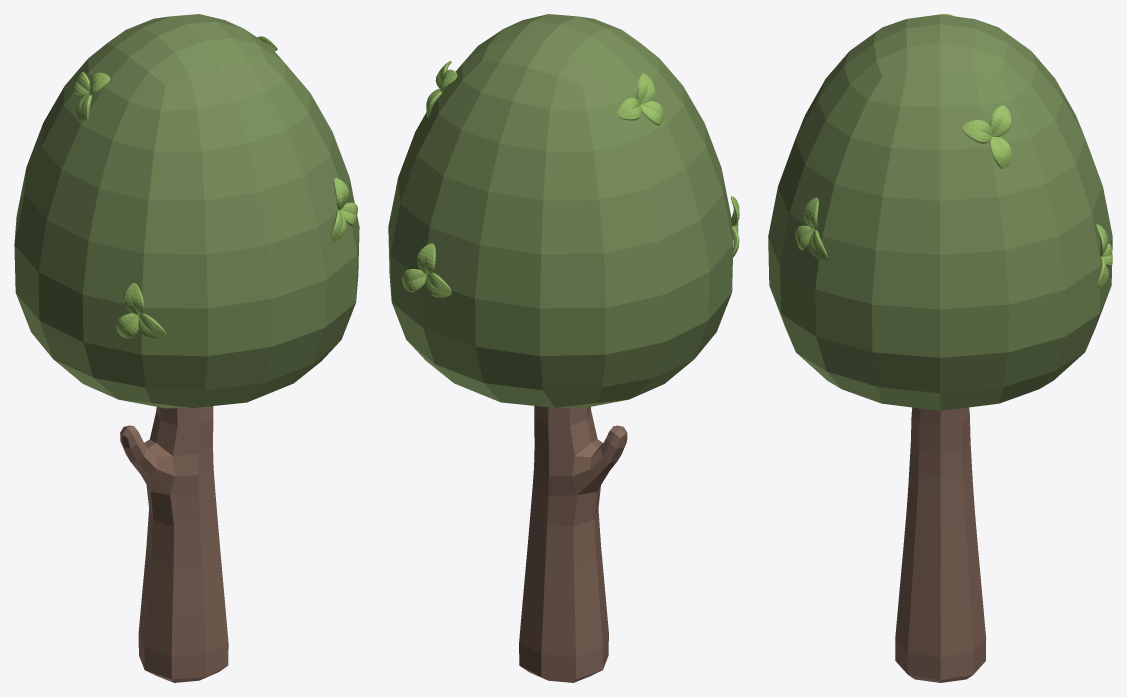
The model's file is tree_one_sharp.fbx.
The picture shows the model from 3 angles, left to right: view 1: azimuth 30°, elevation 25°; view 2: azimuth 150°, elevation 25°; view 3: azimuth 270°, elevation 25°; orthographic projection.
Parts seen in each view (by area): view 1: Cube.125, Cube.126, Cube.138, Cube.139, Cube.136; view 2: Cube.125, Cube.126, Cube.135, Cube.136, Cube.137; view 3: Cube.125, Cube.126, Cube.137, Cube.139, Cube.135.
Part boxes in pixels (x1,y1,x2,y2): Cube.125: (14, 14, 359, 408); Cube.126: (120, 406, 228, 682); Cube.138: (116, 283, 166, 339); Cube.139: (330, 178, 357, 241); Cube.136: (73, 72, 110, 119); Cube.125: (388, 14, 733, 407); Cube.126: (519, 406, 627, 682); Cube.135: (401, 243, 451, 297); Cube.136: (617, 73, 664, 125); Cube.137: (426, 61, 457, 117); Cube.125: (768, 14, 1112, 410); Cube.126: (895, 407, 986, 682); Cube.137: (962, 105, 1011, 168); Cube.139: (795, 197, 827, 260); Cube.135: (1096, 224, 1112, 287).
Bounding box in the file's own units: 3.21 × 3.21 × 6.68.
